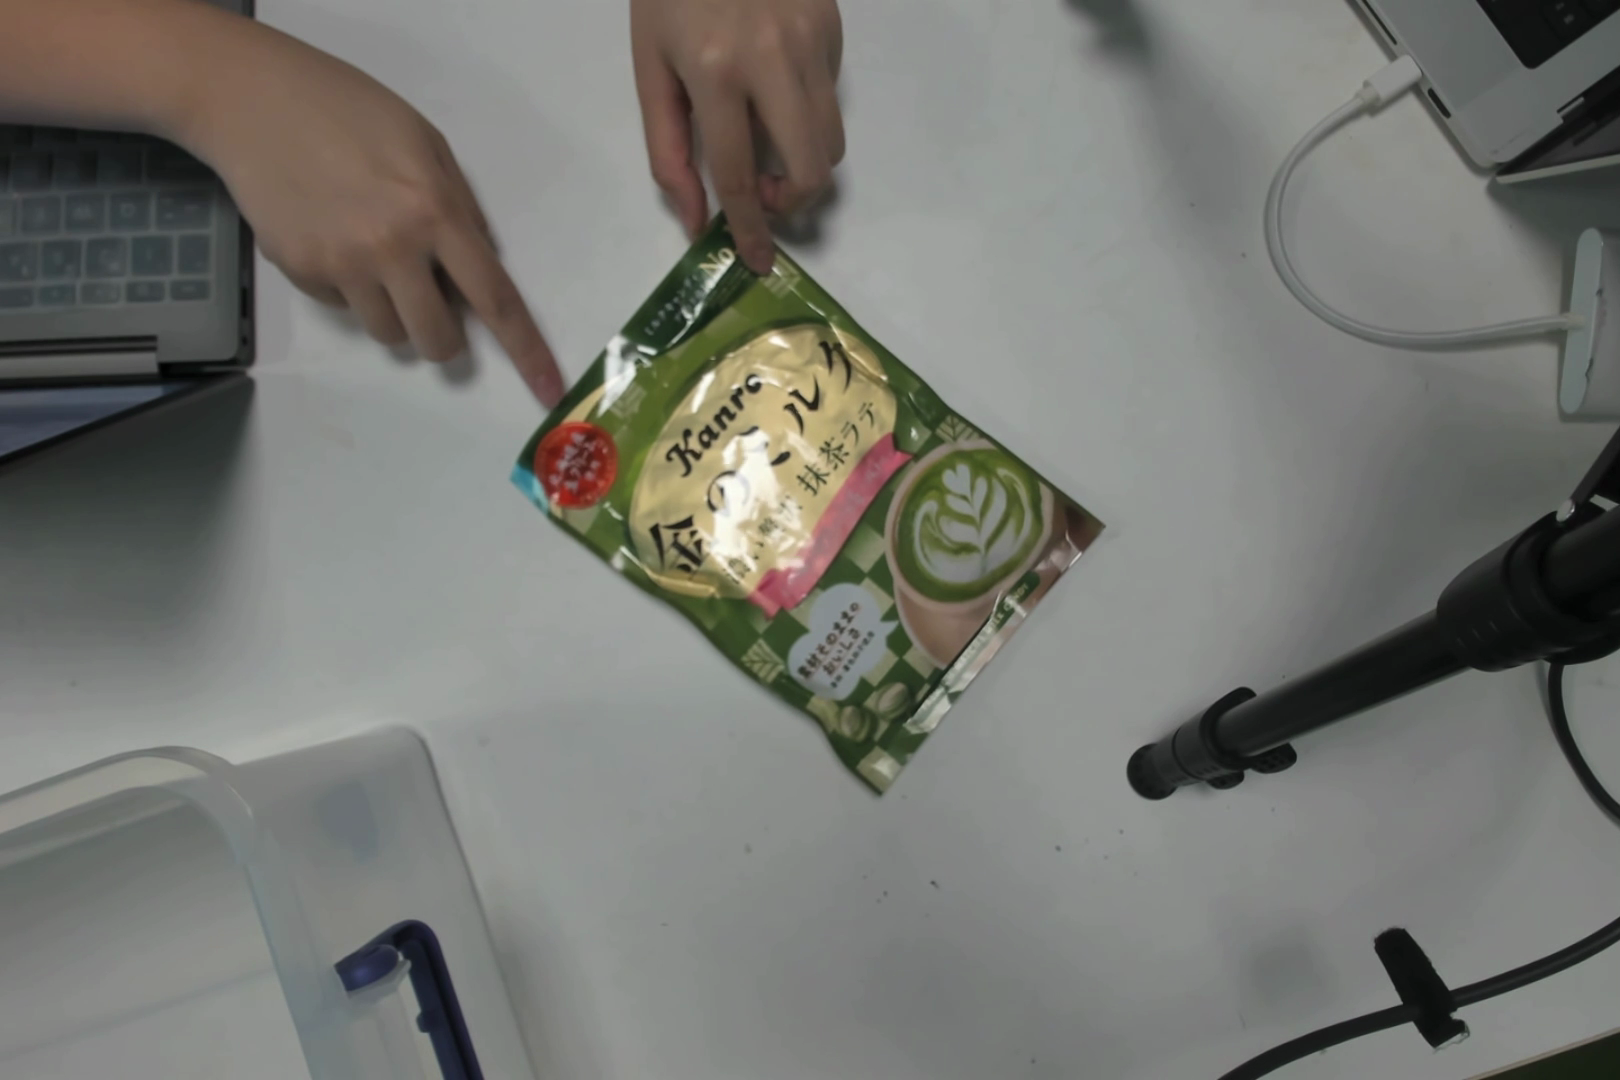SweetsChocolatesOthers_1-99g_NonHalal_NonHealthy: (624, 313, 1031, 763)
